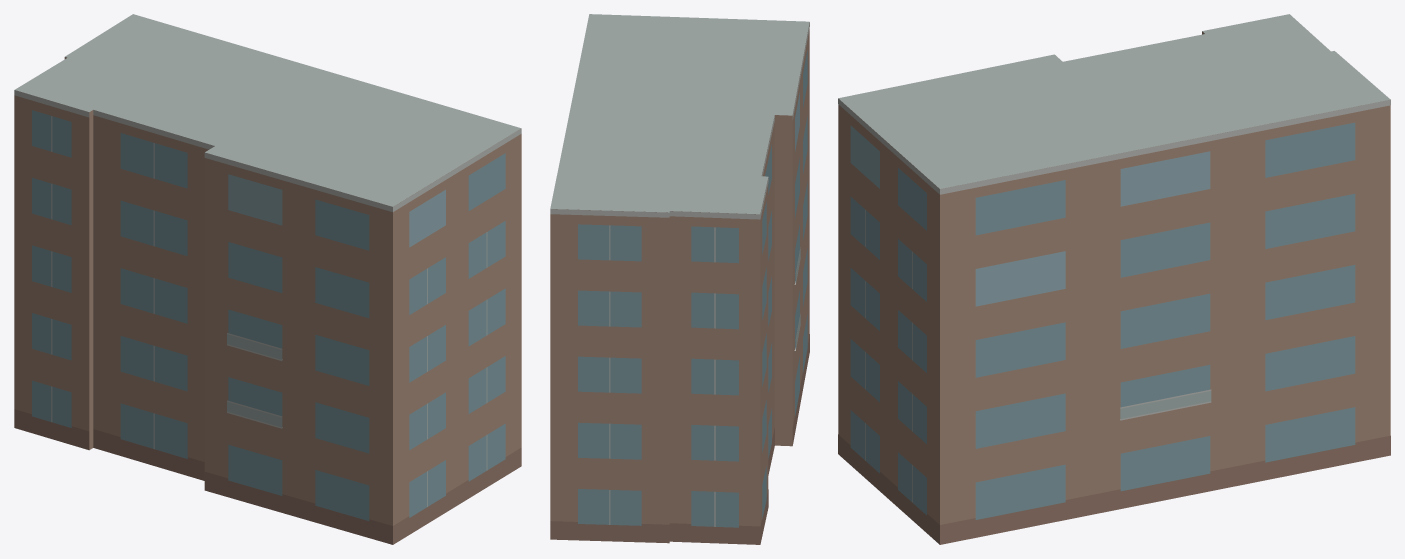
Rendered from survey-upis-32627022.glb.
3 renders of one model, left to right at view 1: azimuth 30°, elevation 25°; view 2: azimuth 150°, elevation 25°; view 3: azimuth 270°, elevation 25°, orthographic. The views are drawn at different scales.
Visible parts, largest first — view 1: survey-upis-32627022.tmp; view 2: survey-upis-32627022.tmp; view 3: survey-upis-32627022.tmp.
Boxes of the visible parts, x1,y1,x2,y2 form: survey-upis-32627022.tmp: [14, 14, 521, 544]; survey-upis-32627022.tmp: [550, 14, 809, 544]; survey-upis-32627022.tmp: [838, 14, 1390, 544].
Bounding box in the file's own units: 16.16 × 15.3 × 21.55.
